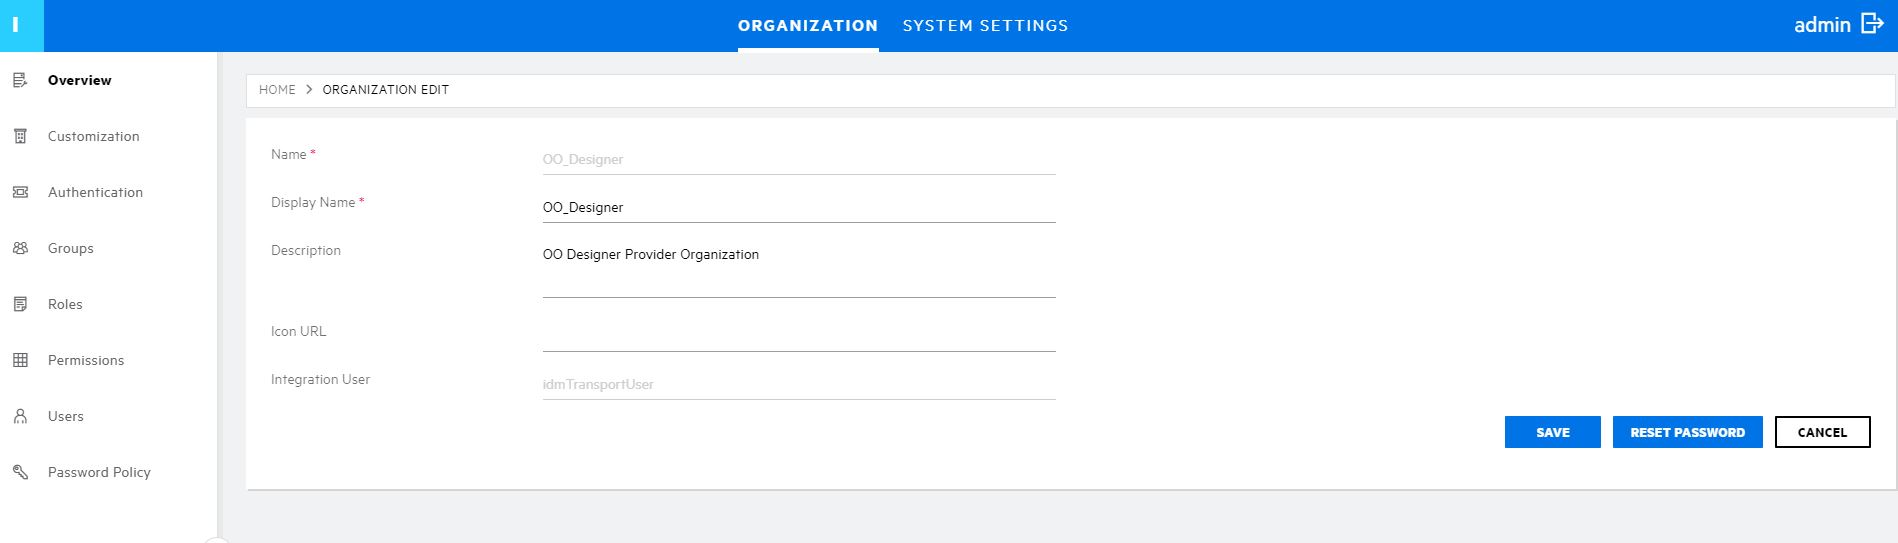button: (1609, 404, 1771, 458), (1486, 406, 1607, 460), (1767, 406, 1875, 454)
textbox: (524, 133, 1062, 184), (523, 181, 1086, 230), (531, 273, 1194, 314), (533, 374, 1063, 411), (534, 327, 1085, 360)
